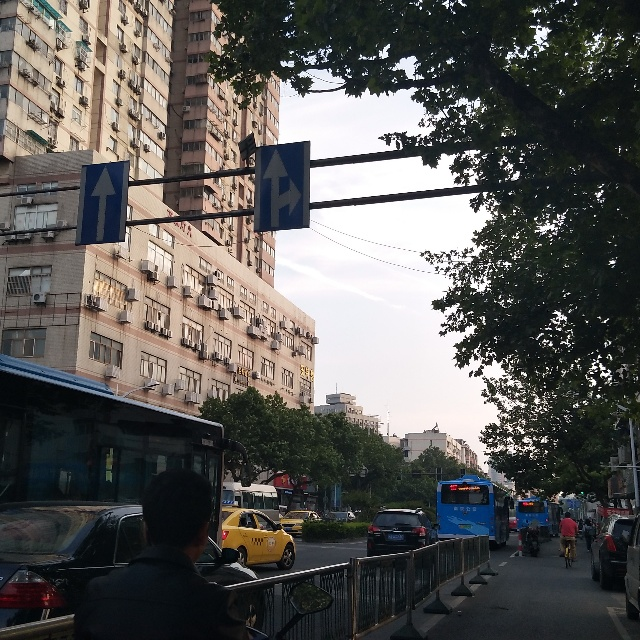straight: (76, 160, 130, 246)
